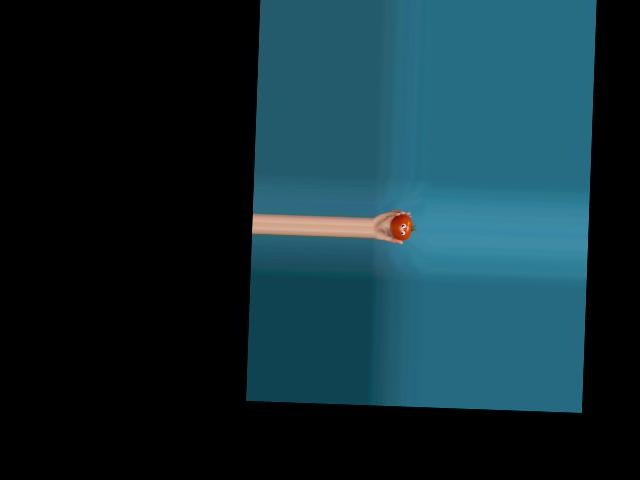tomato: (389, 213, 412, 241)
